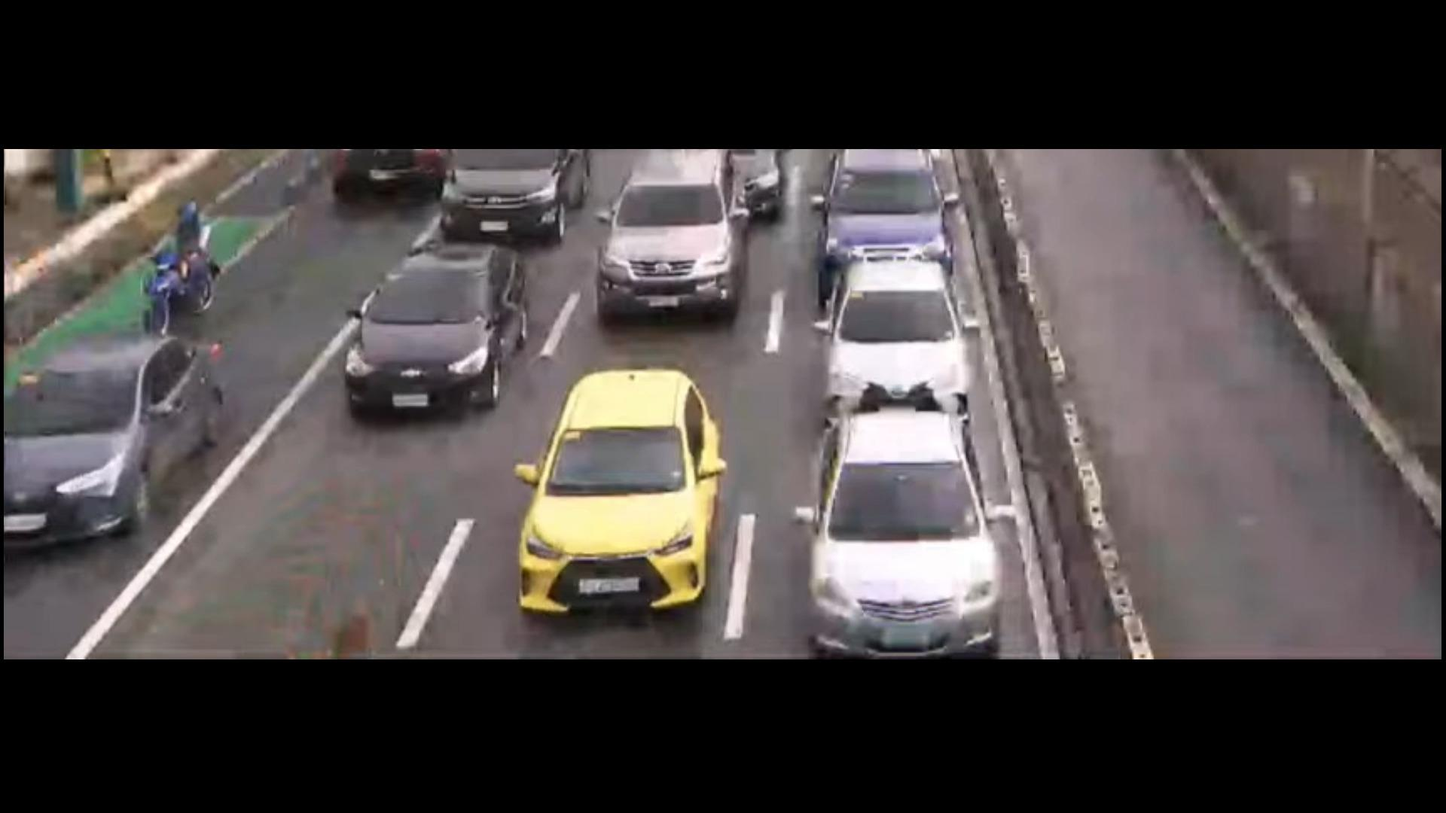Motorcycle: (134, 205, 222, 326)
SUV: (602, 154, 751, 326), (813, 152, 951, 292)
Sedan: (785, 412, 1000, 653), (0, 337, 260, 536), (525, 384, 723, 600), (819, 248, 996, 427), (345, 252, 510, 405), (442, 152, 580, 233)
